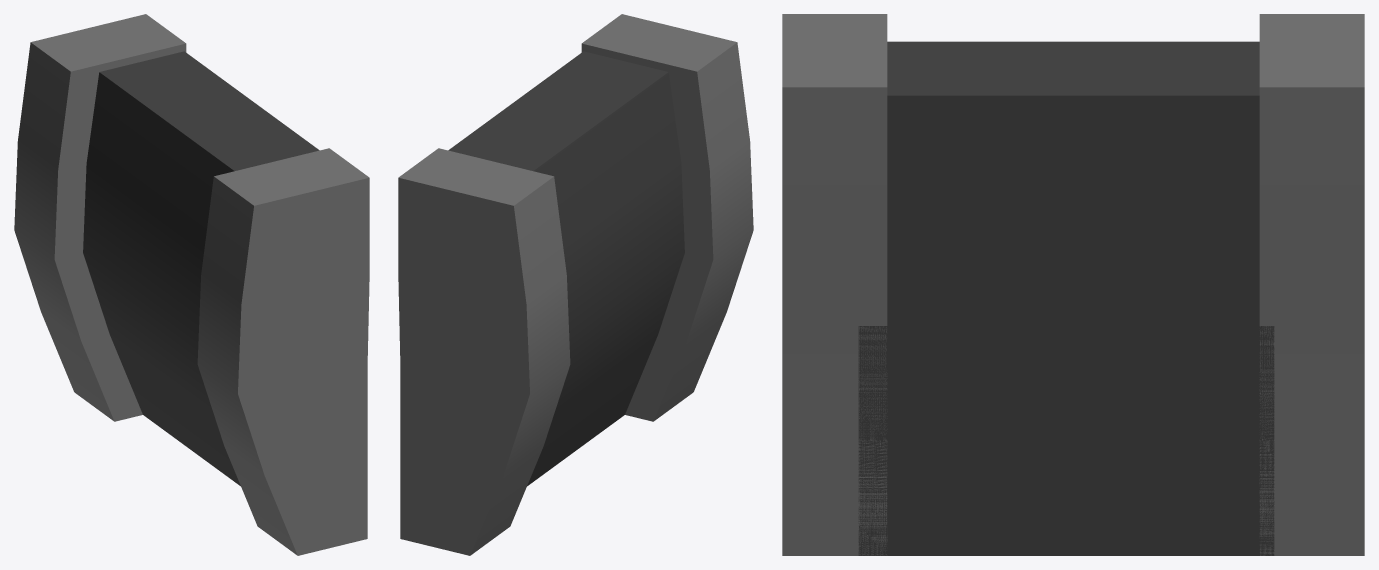
File: mesh_stone_harbour_end_peice.fbx
3 views of the same model, side by side, from view 1: azimuth 30°, elevation 25°; view 2: azimuth 150°, elevation 25°; view 3: azimuth 270°, elevation 25° (orthographic). The views are drawn at different scales.
Visible parts, largest first — view 1: stone_harbour_end_peice; view 2: stone_harbour_end_peice; view 3: stone_harbour_end_peice.
Part boxes in pixels (x1=…): stone_harbour_end_peice: x1=14, y1=14, x2=369, y2=555; stone_harbour_end_peice: x1=398, y1=14, x2=753, y2=555; stone_harbour_end_peice: x1=782, y1=14, x2=1364, y2=555.
Size of the model in its own units: 244 by 639 by 717.
1 material, 1 textured.
